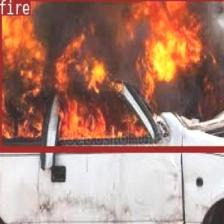fire: (0, 0, 224, 150)
